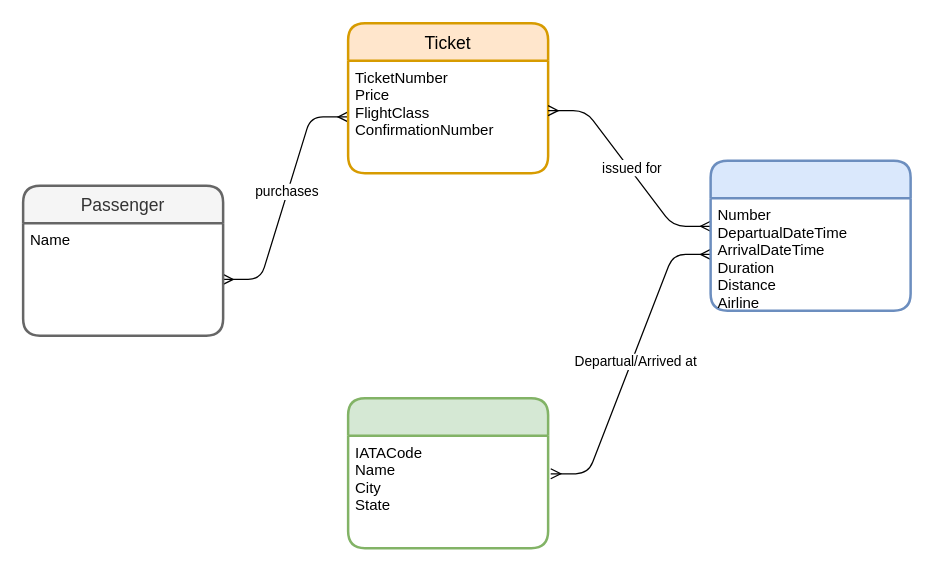
This 933x570 diagram has some shape labels left out. The box of each missing label's shape, as (x1, y1, x2, y2) in pixels:
Airport: (346, 396, 549, 549)
Flight: (709, 159, 911, 311)
